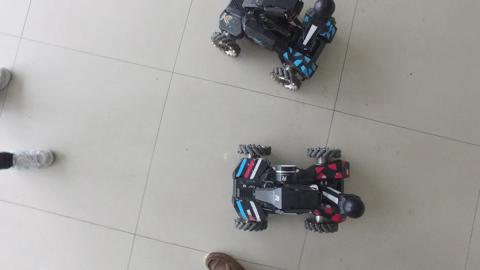chariot: (230, 136, 367, 236), (213, 1, 340, 95)
